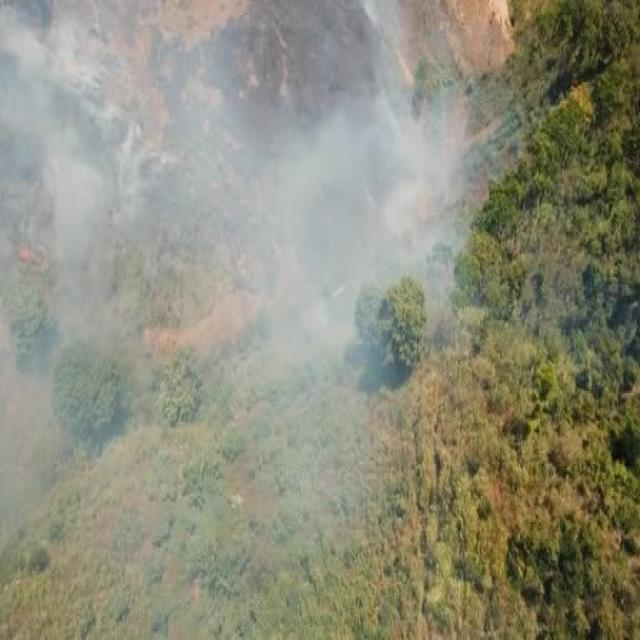Smoke: (234, 84, 416, 360)
